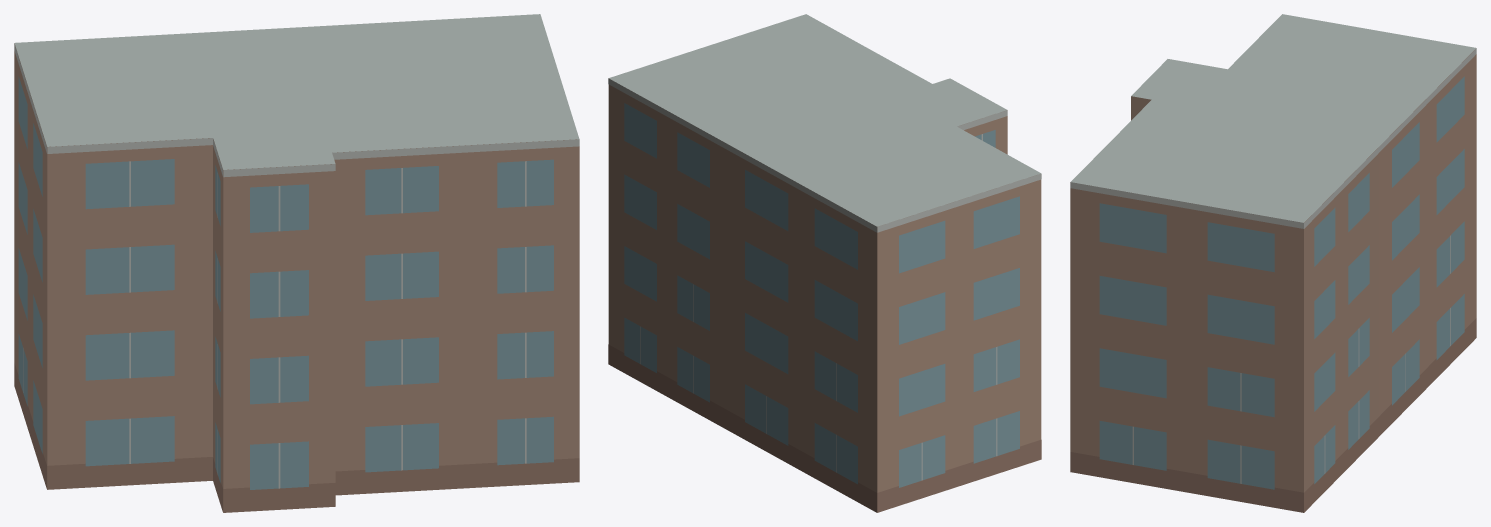
File: survey-upis-32809159.glb
3 views of the same model, side by side, from view 1: azimuth 30°, elevation 25°; view 2: azimuth 150°, elevation 25°; view 3: azimuth 270°, elevation 25° (orthographic). The views are drawn at different scales.
Parts seen in each view (by area): view 1: survey-upis-32809159.tmp; view 2: survey-upis-32809159.tmp; view 3: survey-upis-32809159.tmp.
Boxes of the visible parts, box(x1,y1,x2,y2) form: survey-upis-32809159.tmp: box(14, 14, 579, 512); survey-upis-32809159.tmp: box(608, 14, 1041, 512); survey-upis-32809159.tmp: box(1070, 14, 1476, 512).
Size of the model in its own units: 17.93 by 11.6 by 14.73.
